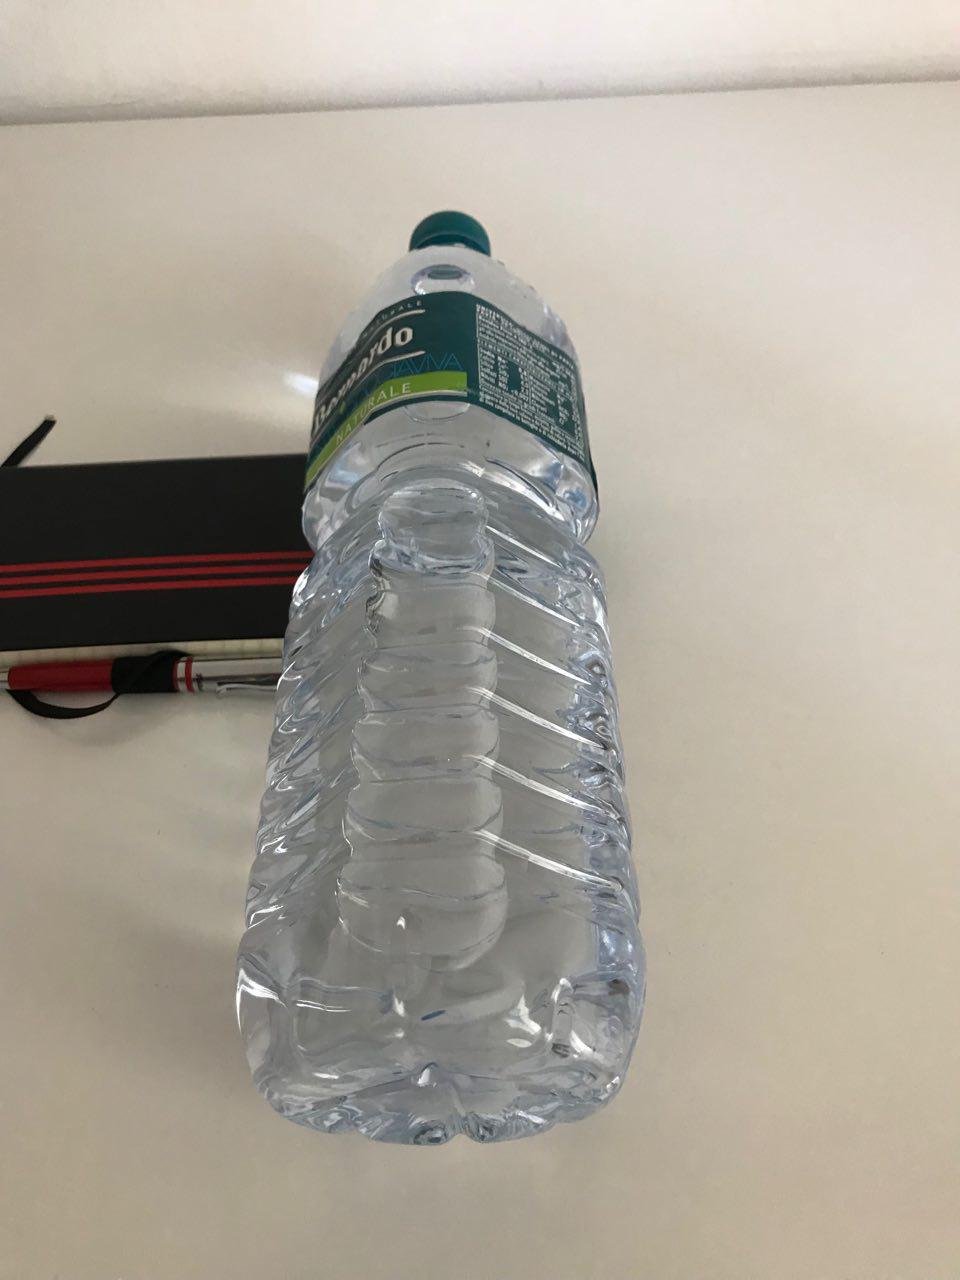san_bernardo: (232, 207, 650, 1149)
